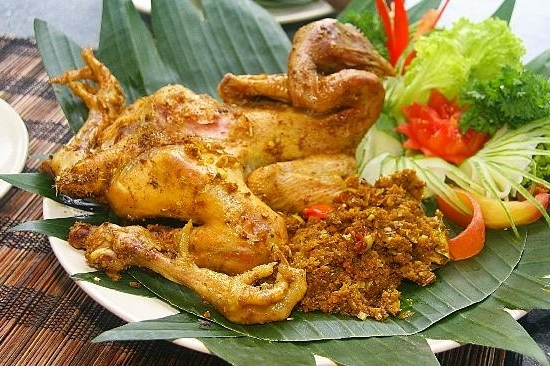ayam_betutu: (40, 20, 386, 324)
